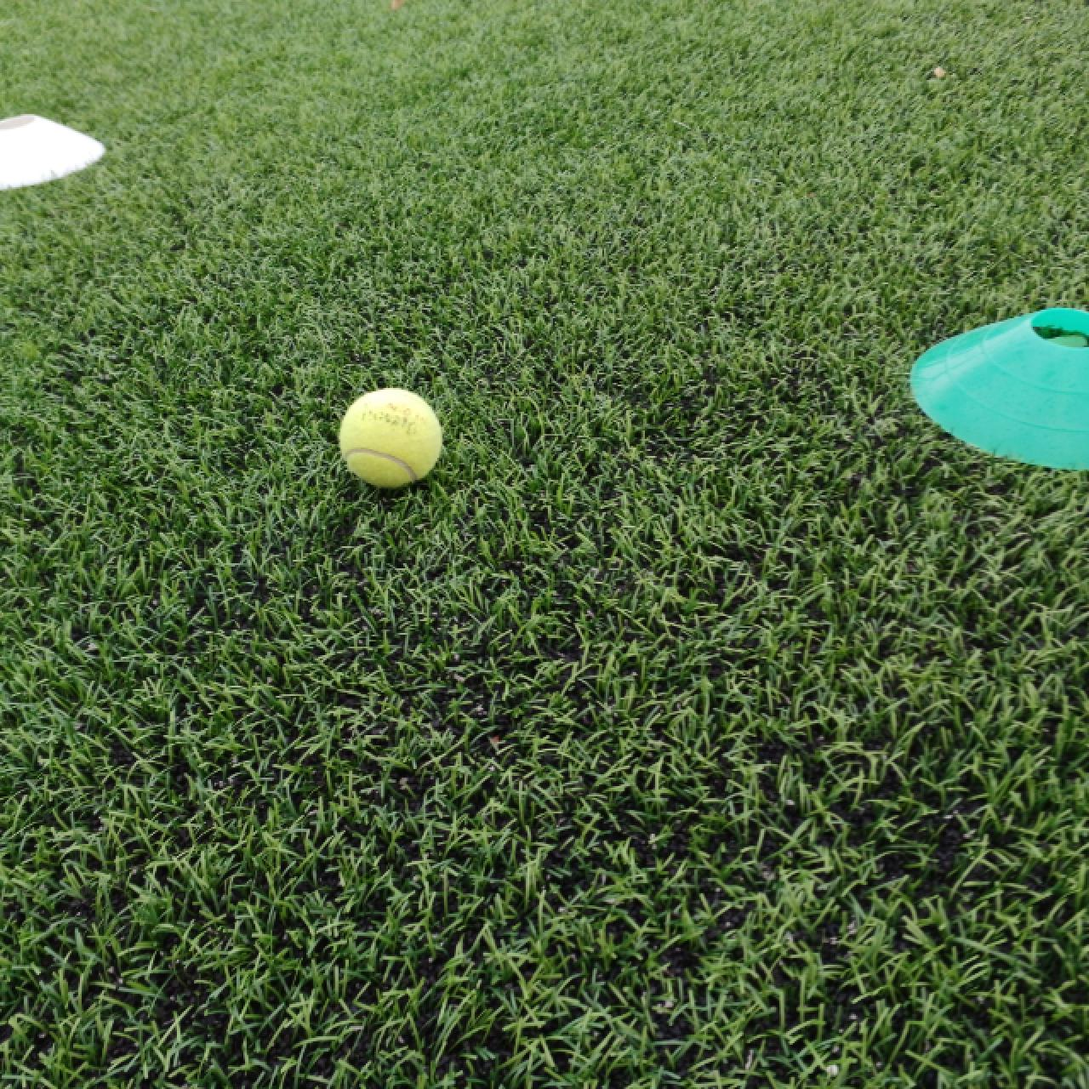tennis-ball: (339, 385, 444, 487)
